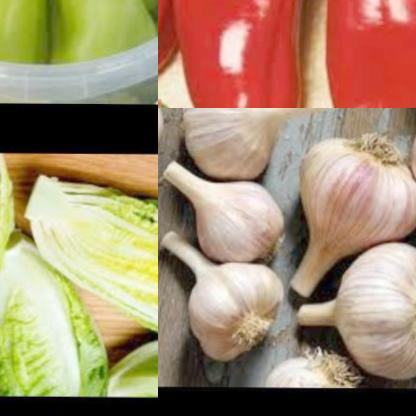bell pepper: (158, 0, 316, 108), (322, 0, 416, 108), (39, 0, 158, 61), (0, 0, 58, 70)
garlic: (289, 127, 416, 302), (158, 225, 289, 364), (295, 243, 416, 378), (158, 158, 292, 269), (175, 108, 338, 177), (258, 342, 369, 387)
salad: (18, 165, 158, 353), (0, 230, 121, 397), (0, 153, 17, 393), (106, 338, 158, 399)
